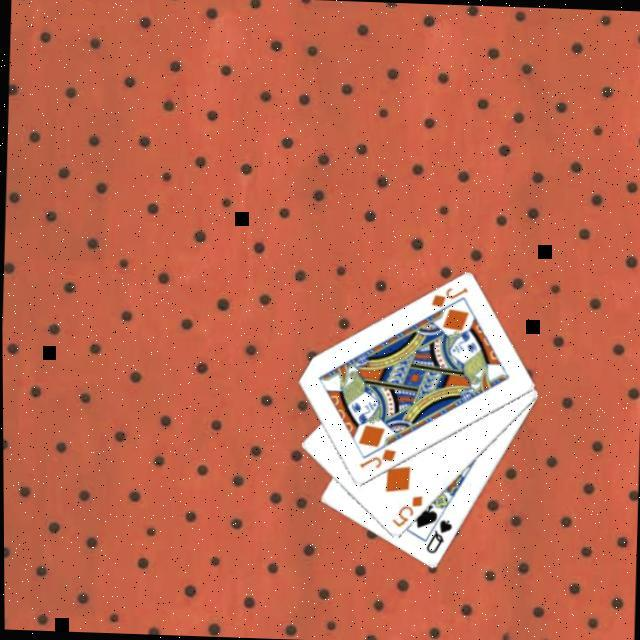5D: (386, 491, 423, 530)
JD: (354, 443, 397, 472), (426, 283, 469, 310)
QS: (420, 515, 452, 557)
